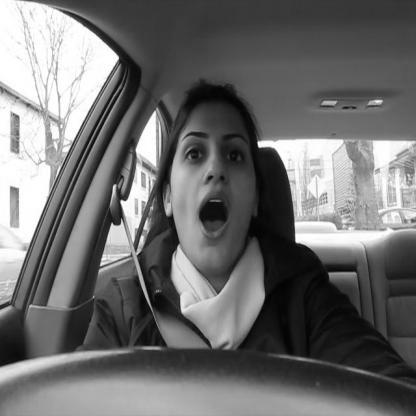seatbelt: (105, 69, 279, 345)
